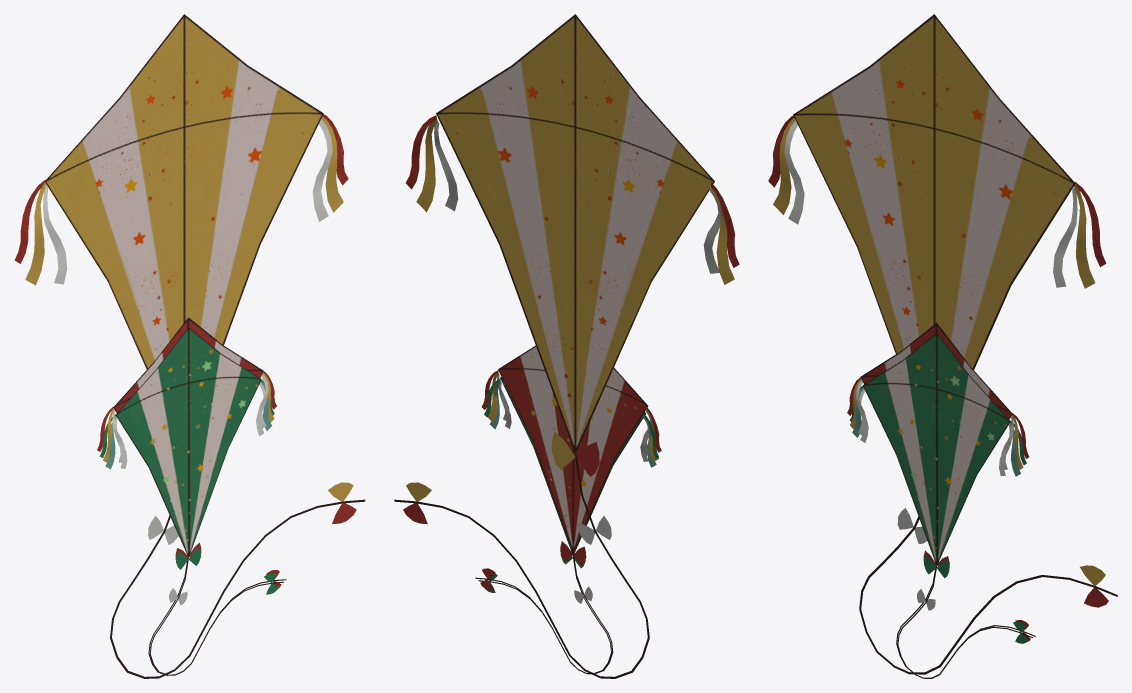
The model's file is yueduzhixing_fengzheng.FBX.
The picture shows the model from 3 angles, left to right: view 1: azimuth 30°, elevation 25°; view 2: azimuth 150°, elevation 25°; view 3: azimuth 330°, elevation 25°; orthographic projection.
Visible parts, largest first — view 1: yueduzhixing_fengzheng1, yueduzhixing_fengzheng2, yueduzhixing_fengzheng3; view 2: yueduzhixing_fengzheng1, yueduzhixing_fengzheng3, yueduzhixing_fengzheng2; view 3: yueduzhixing_fengzheng1, yueduzhixing_fengzheng2, yueduzhixing_fengzheng3.
Boxes of the visible parts, x1,y1,x2,y2 form: yueduzhixing_fengzheng1: [14, 14, 365, 678]; yueduzhixing_fengzheng2: [99, 327, 283, 675]; yueduzhixing_fengzheng3: [97, 317, 286, 675]; yueduzhixing_fengzheng1: [394, 14, 739, 678]; yueduzhixing_fengzheng3: [475, 345, 661, 674]; yueduzhixing_fengzheng2: [478, 377, 658, 673]; yueduzhixing_fengzheng1: [768, 14, 1117, 674]; yueduzhixing_fengzheng2: [849, 333, 1032, 678]; yueduzhixing_fengzheng3: [847, 322, 1035, 677].
Size of the model in its own units: 80.17 by 4.02 by 145.
1 material, 1 textured.
